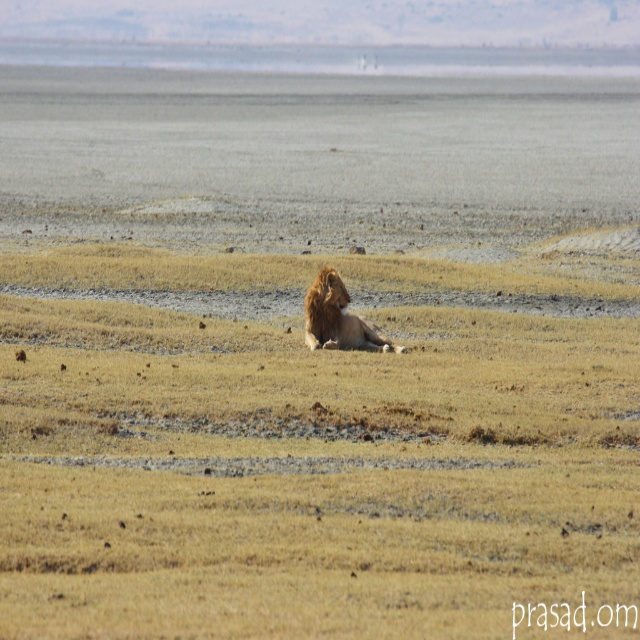Lion: (304, 267, 406, 357), (304, 266, 407, 354)
